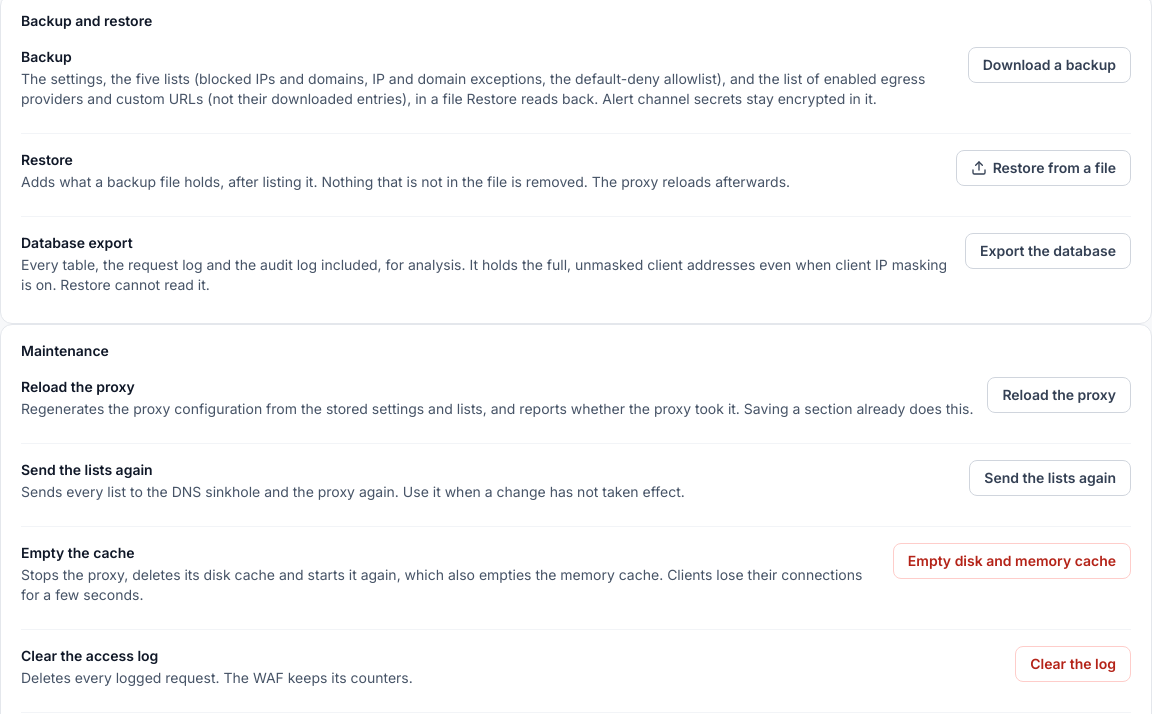
Scenario: Maintenance › clears the access log beside Reset statistics, and says the WAF keeps its counters
Expected: the text "Deletes every logged request. The WAF keeps its counters." is shown, [21, 669, 413, 686]
Click the button "Clear the log". click: (1073, 664)
box: [1015, 646, 1131, 682]
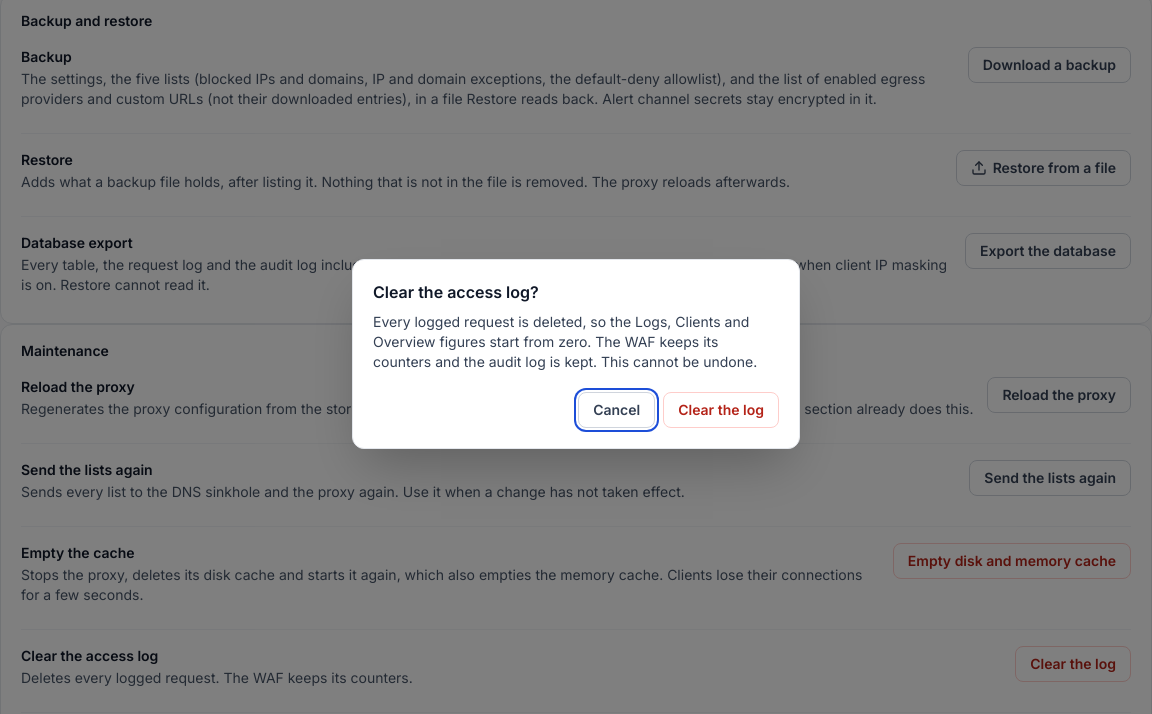
Expected: the dialog "Clear the access log?" shows "The WAF keeps its counters and the audit log is kept.", [373, 313, 757, 370]
Click the button "Clear the log". click: (721, 410)
box: [663, 392, 779, 428]
(page scrolled)
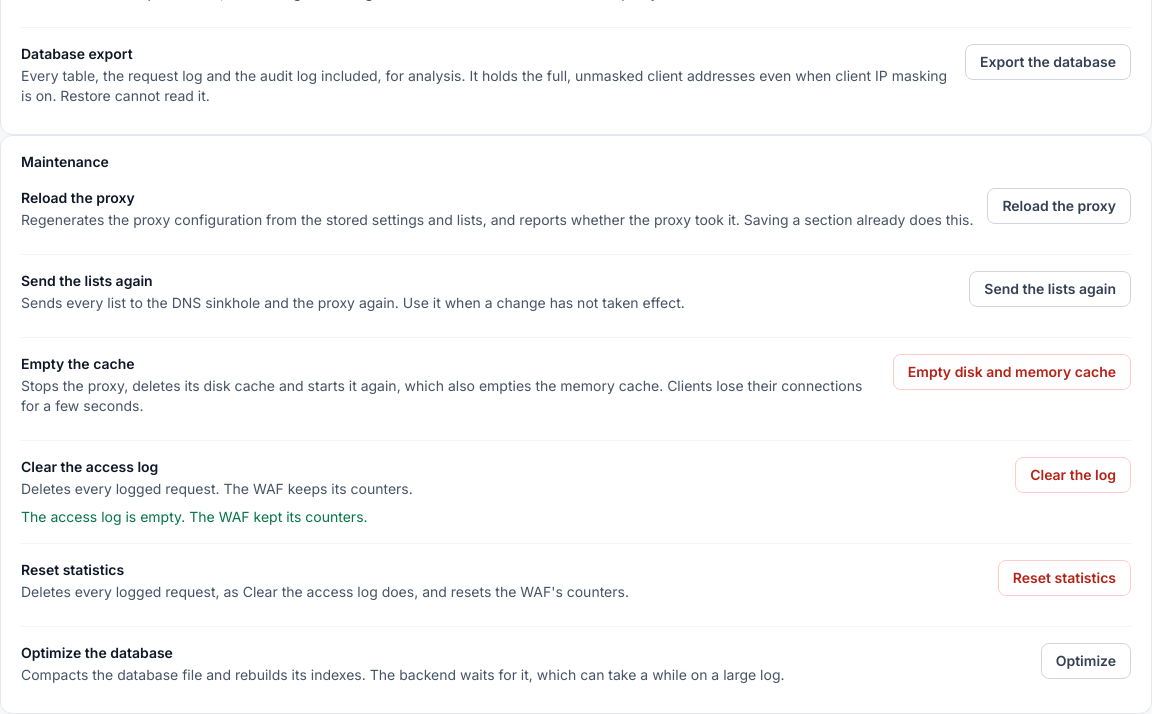
Expected: the text "The access log is empty. The WAF kept its counters." is shown, [21, 508, 368, 525]
